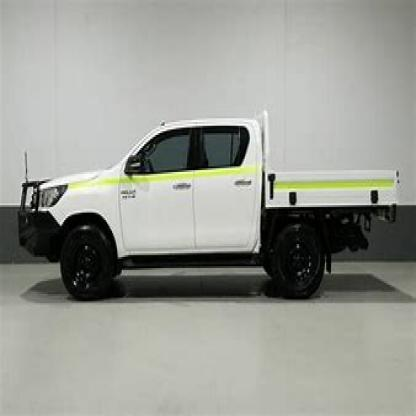light_vehicle: (15, 102, 408, 301)
